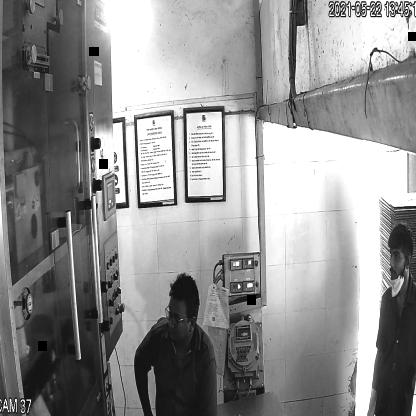goggles: (163, 303, 195, 326)
no_goggles: (388, 248, 412, 262)
